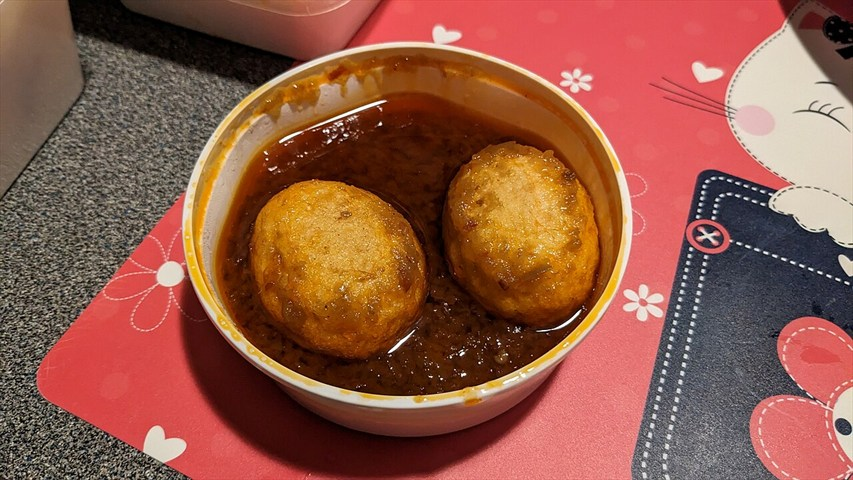Telur Balado: (151, 31, 750, 413)
